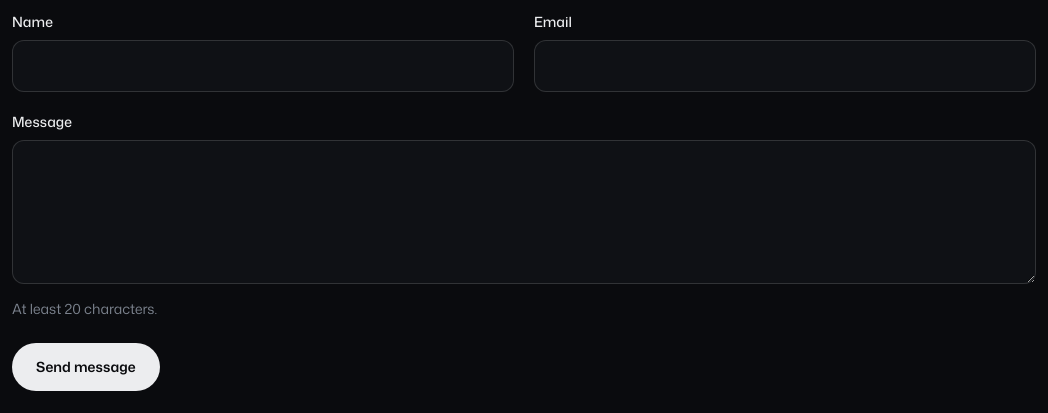
Test case: <ContactForm /> › asks for at least 20 characters in the message
Type "Too short" into the text box labelled "Message" at (524, 212), box [12,140,1036,284]
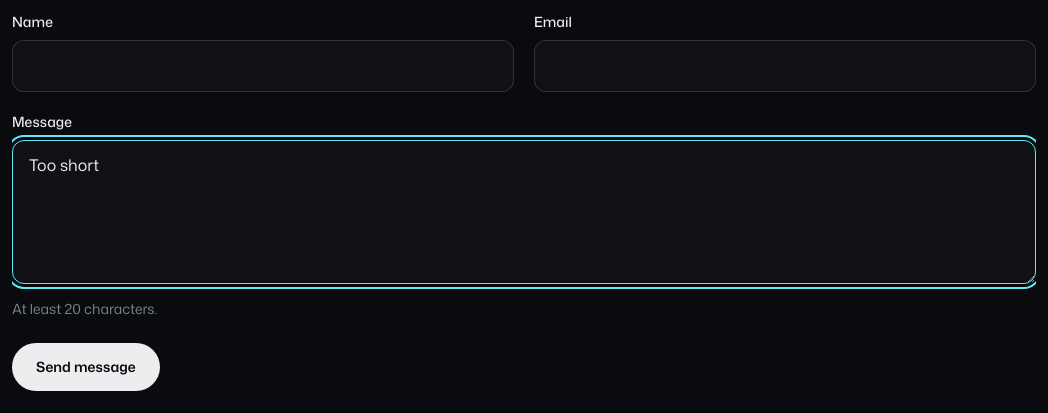
Press Tab
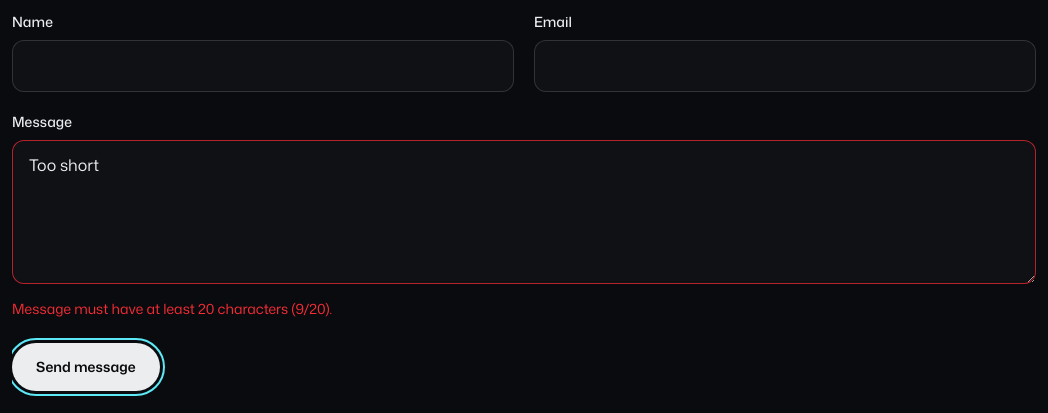
Result: the text "Message must have at least 20 characters (9/20)." is shown at [12,299,332,318]
